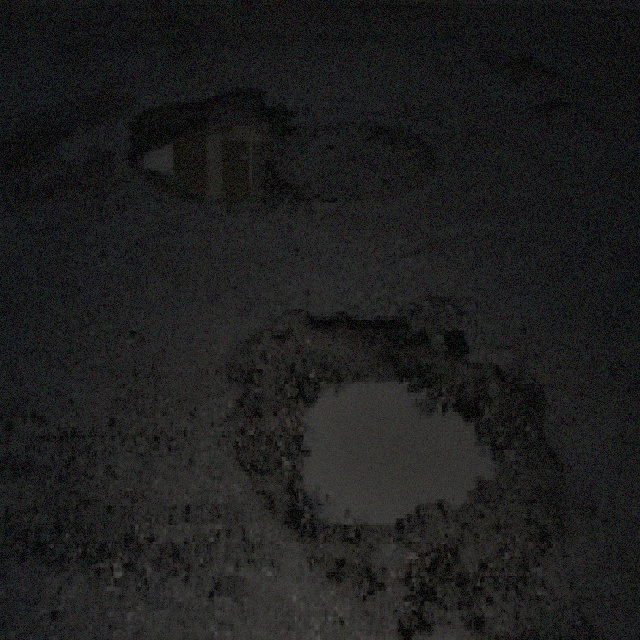pothole: (226, 299, 567, 638), (123, 81, 309, 209), (480, 43, 560, 96), (531, 96, 601, 132)
